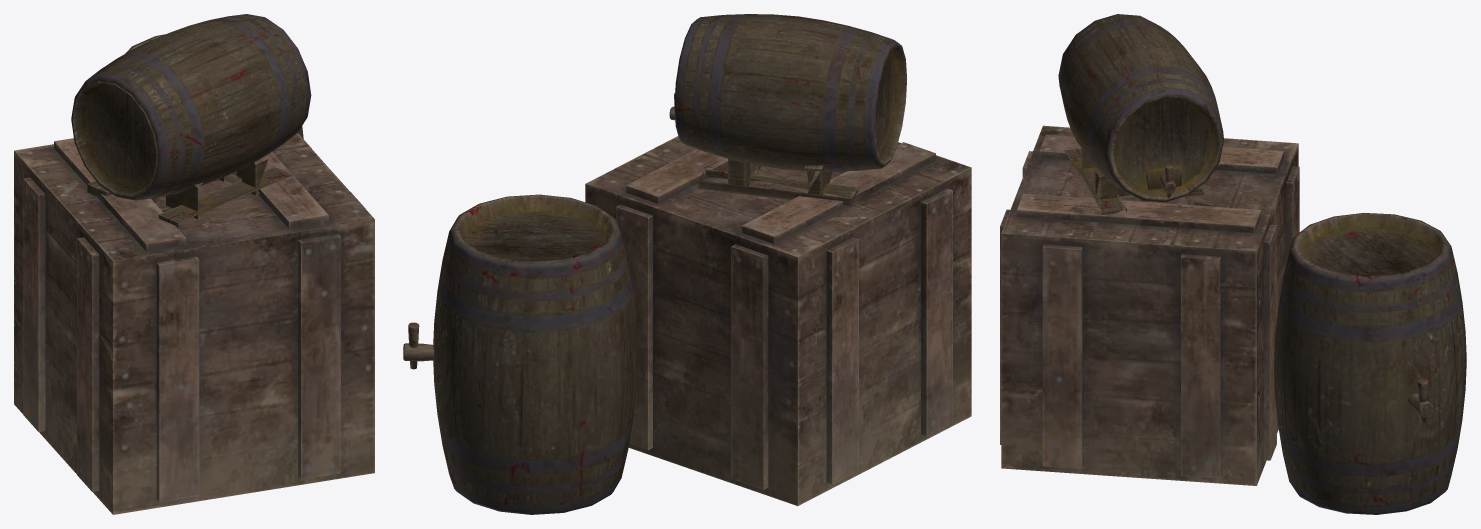
Rendered from SHO_General_Store_CrateSet_1-transformed.glb.
3 renders of one model, left to right at view 1: azimuth 30°, elevation 25°; view 2: azimuth 150°, elevation 25°; view 3: azimuth 270°, elevation 25°, orthographic. The views are drawn at different scales.
Parts seen in each view (by area): view 1: default; view 2: default; view 3: default.
Part boxes in pixels (left/top/right/bottom): default: left=14, top=14, right=374, bottom=514; default: left=403, top=14, right=971, bottom=514; default: left=1000, top=14, right=1466, bottom=514.
Size of the model in its own units: 0.9581 by 0.9993 by 1.12.
2 materials, 2 textured.
